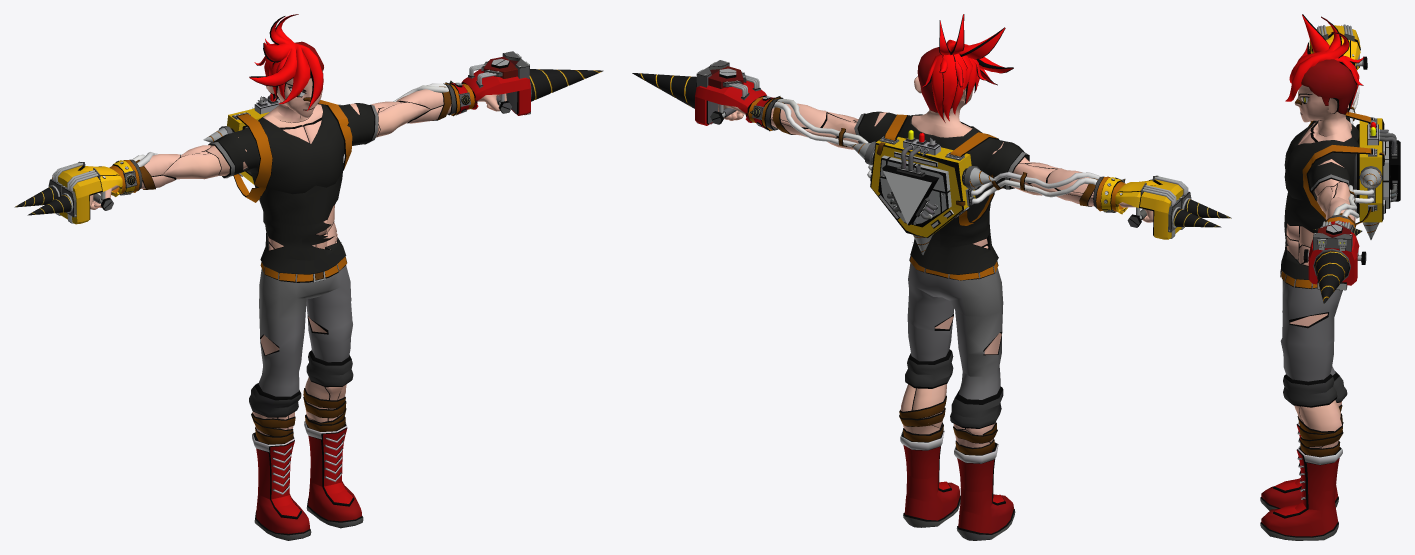
File: BoxerColor.fbx
3 renders of one model, left to right at view 1: azimuth 30°, elevation 25°; view 2: azimuth 150°, elevation 25°; view 3: azimuth 270°, elevation 25°, orthographic. The views are drawn at different scales.
Visible parts, largest first — view 1: Boxer; view 2: Boxer; view 3: Boxer.
Part boxes in pixels (x1=…): Boxer: x1=14, y1=14, x2=603, y2=540; Boxer: x1=632, y1=14, x2=1231, y2=540; Boxer: x1=1260, y1=14, x2=1400, y2=540.
Bounding box in the file's own units: 216 × 179 × 45.89.
